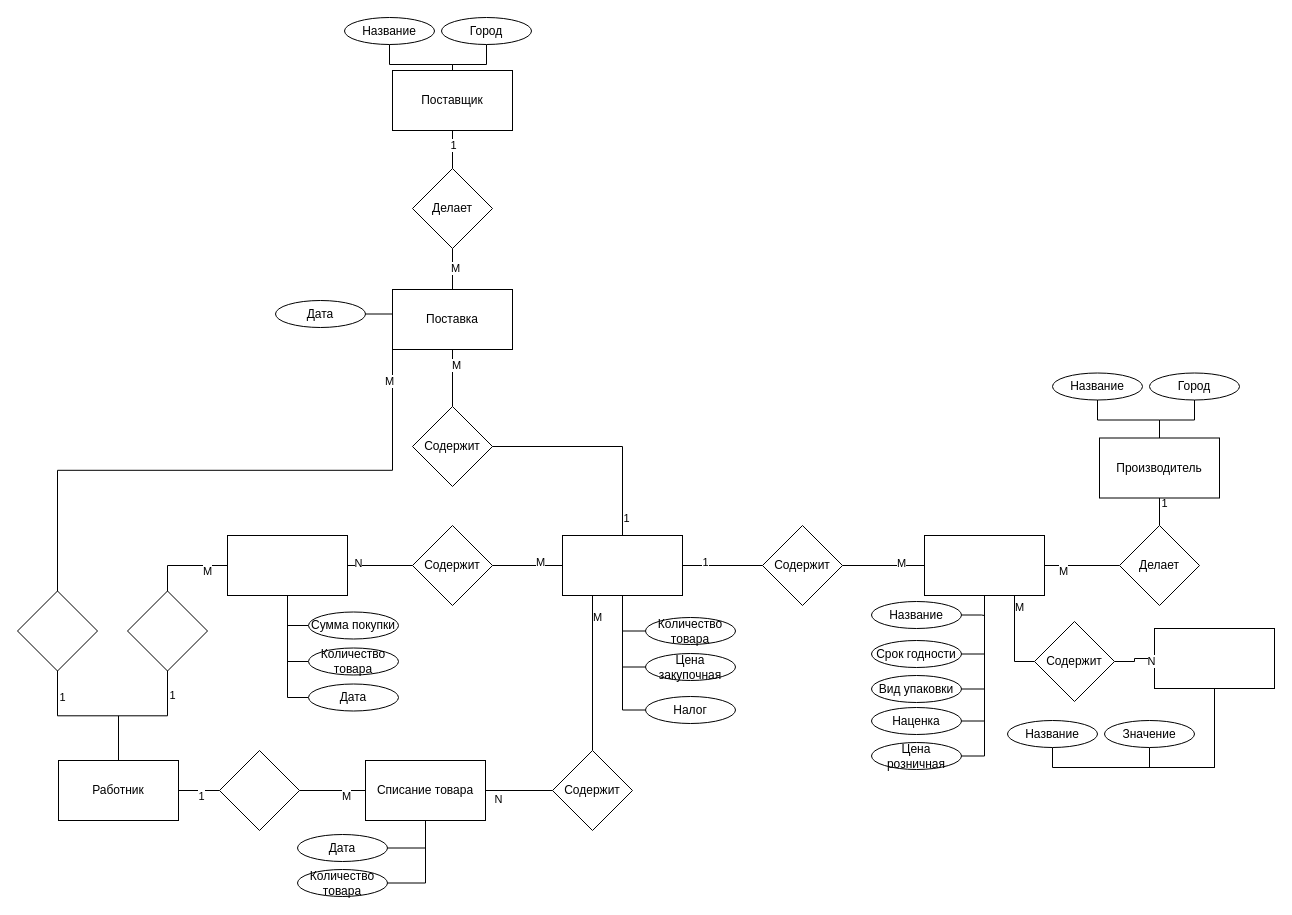
This 1292x915 diagram has some shape labels left out. Each missing label, with the box of its shape:
Накладная: (562, 534, 682, 596)
Организует: (126, 590, 208, 671)
Отвечает за: (218, 750, 300, 830)
Покупка: (226, 534, 348, 596)
Принимает: (16, 590, 98, 671)
Товар: (924, 534, 1044, 596)
Характеристика: (1154, 628, 1274, 688)
